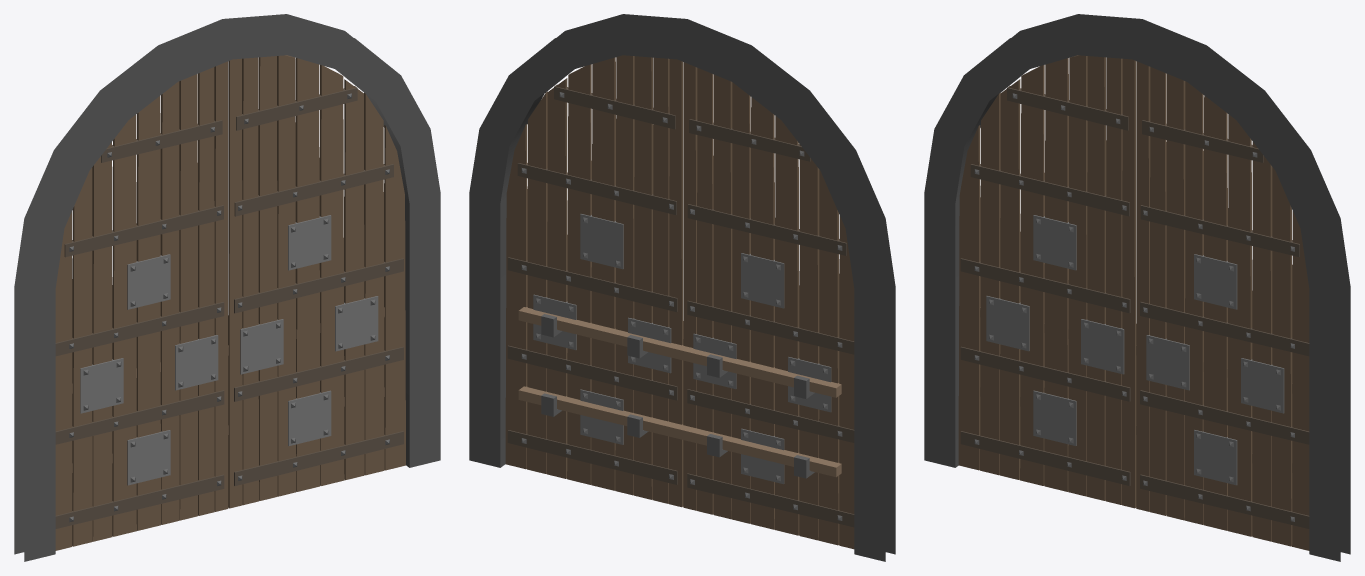
The model's file is Closed_MainGate.fbx.
The picture shows the model from 3 angles, left to right: view 1: azimuth 30°, elevation 25°; view 2: azimuth 150°, elevation 25°; view 3: azimuth 330°, elevation 25°; orthographic projection.
Parts seen in each view (by area): view 1: Closed_MainGate; view 2: Closed_MainGate; view 3: Closed_MainGate.
Boxes of the visible parts, x1,y1,x2,y2 form: Closed_MainGate: [14, 14, 440, 561]; Closed_MainGate: [469, 14, 895, 561]; Closed_MainGate: [924, 14, 1350, 561].
Bounding box in the file's own units: 203 × 225 × 12.02.
